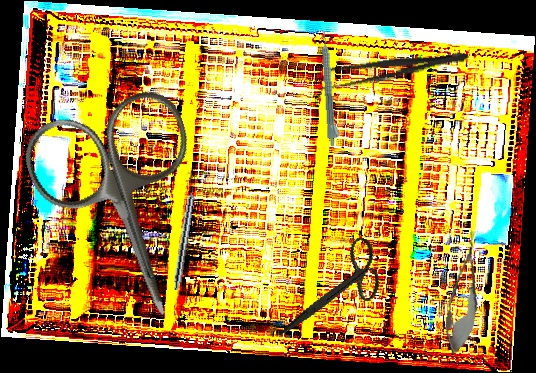Dressing Forceps: (314, 43, 471, 95)
Handpiece: (172, 176, 200, 292), (320, 30, 341, 147)
Iris Scissors: (16, 83, 238, 341), (278, 222, 392, 360)
Micro Scissor: (439, 228, 489, 358)
